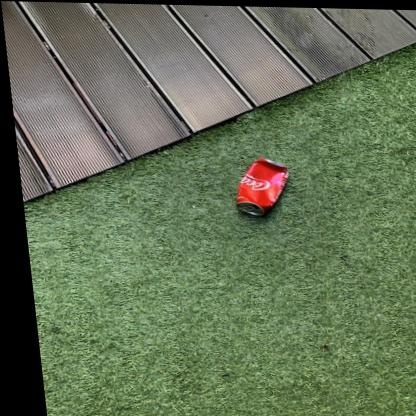trash: (237, 158, 287, 215)
